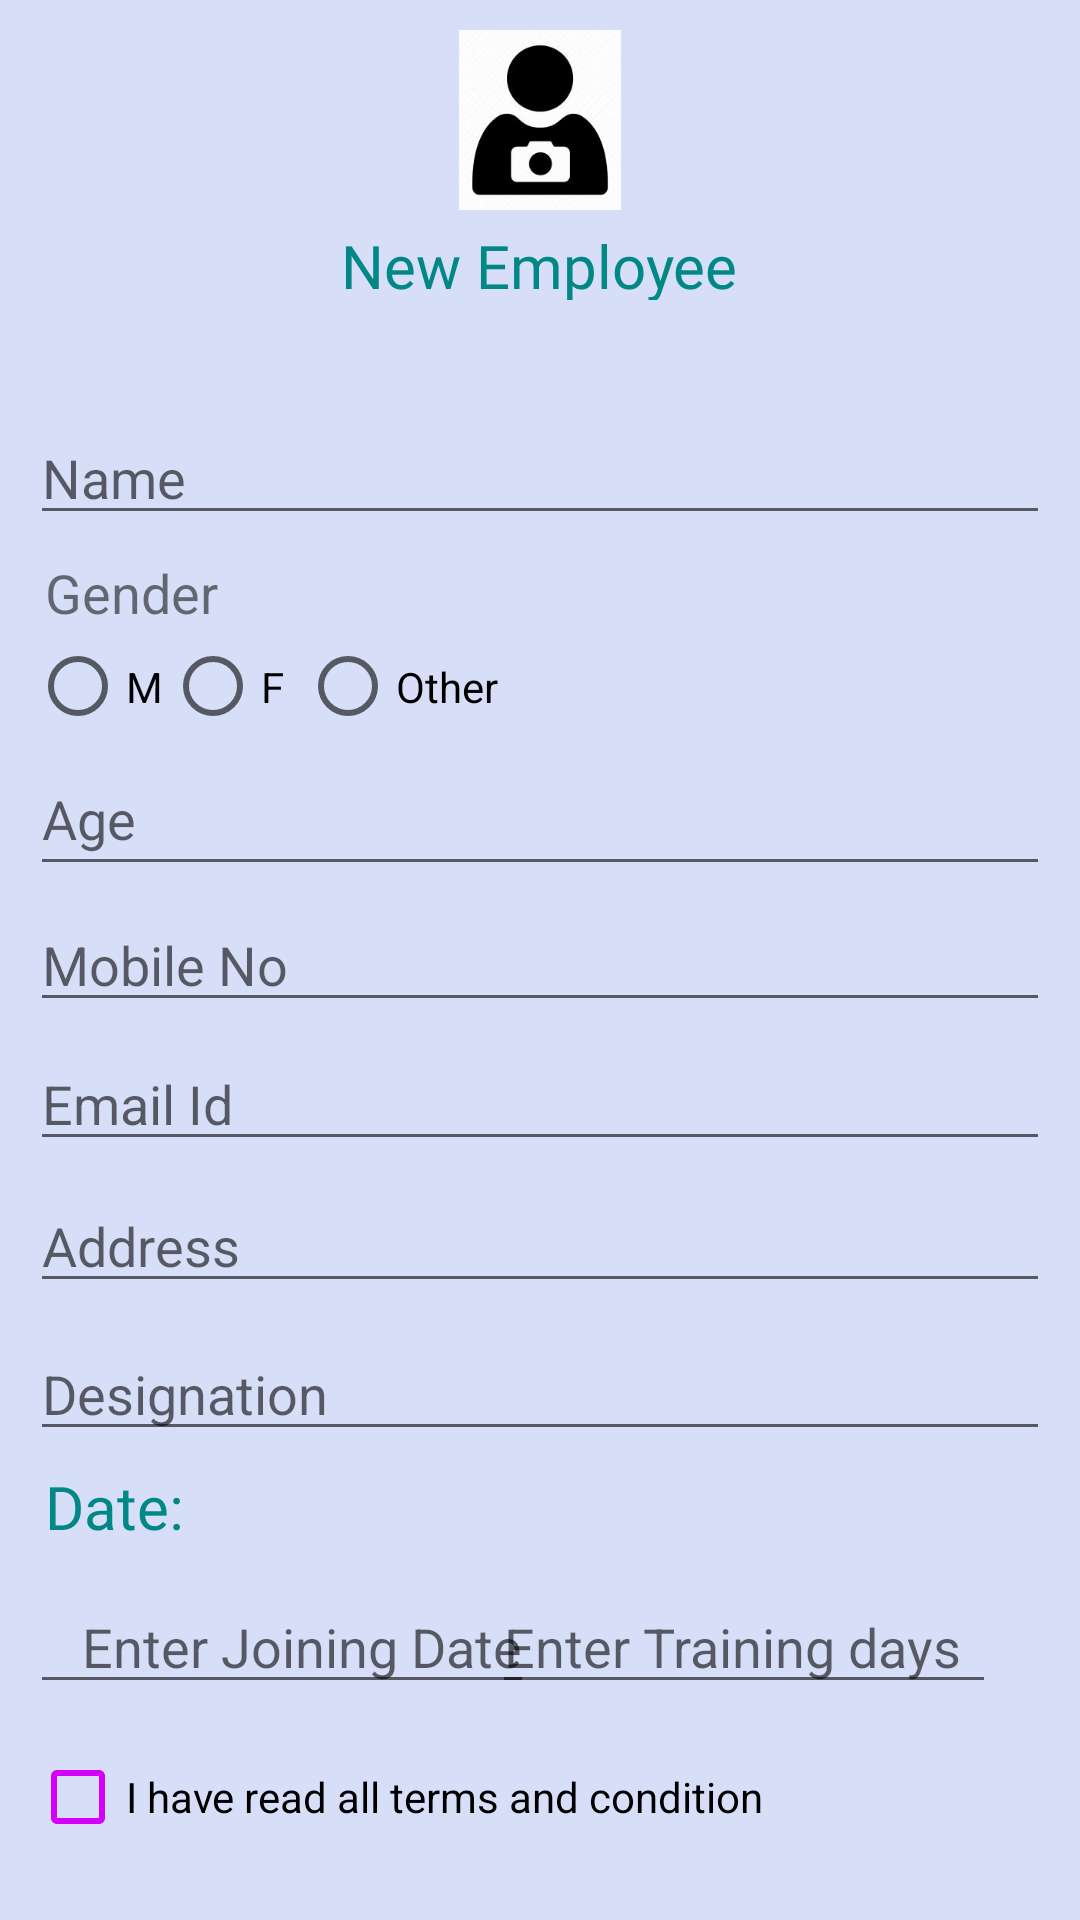

Screen size 1080x1920. Icon name, then its box in pixels as (x1, y1, x2, y2):
cmra: (459, 30, 621, 210)
